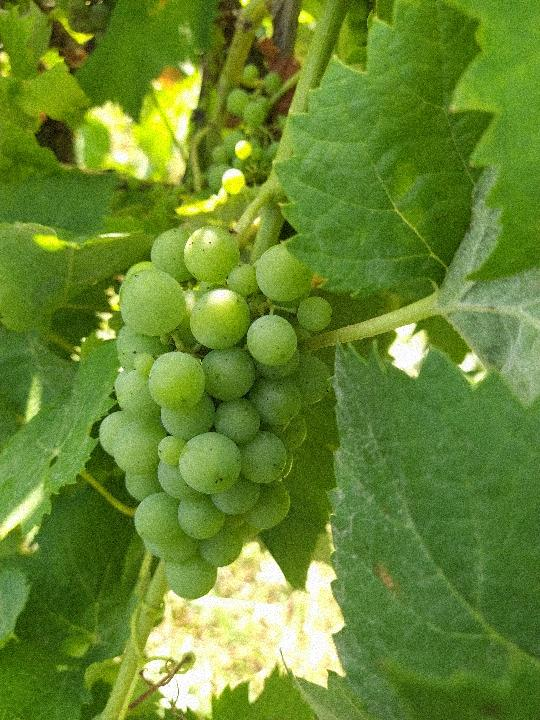grape: (97, 222, 330, 597)
